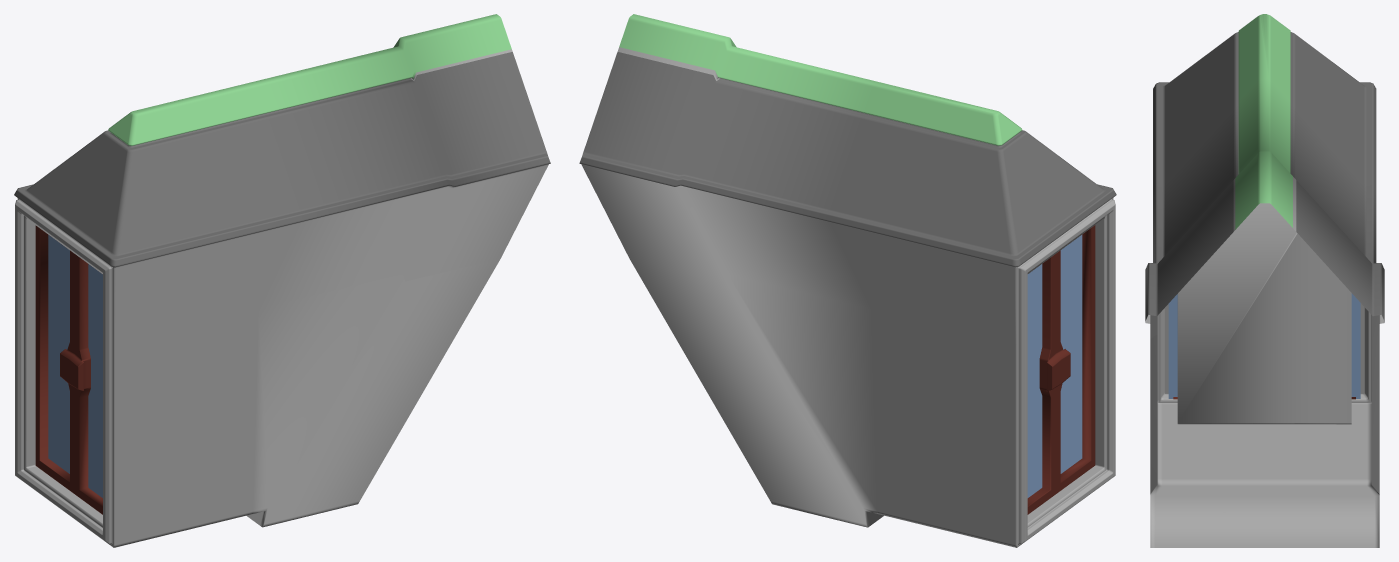
File: lookout.fbx
The picture shows the model from 3 angles, left to right: view 1: azimuth 30°, elevation 25°; view 2: azimuth 150°, elevation 25°; view 3: azimuth 270°, elevation 25°; orthographic projection. The views are drawn at different scales.
Visible parts, largest first — view 1: Cube.015; view 2: Cube.015; view 3: Cube.015.
Boxes of the visible parts, <box> form: Cube.015: <box>14,14,550,547</box>; Cube.015: <box>579,14,1116,547</box>; Cube.015: <box>1145,14,1384,547</box>.
Size of the model in its own units: 196 by 172 by 83.34.
